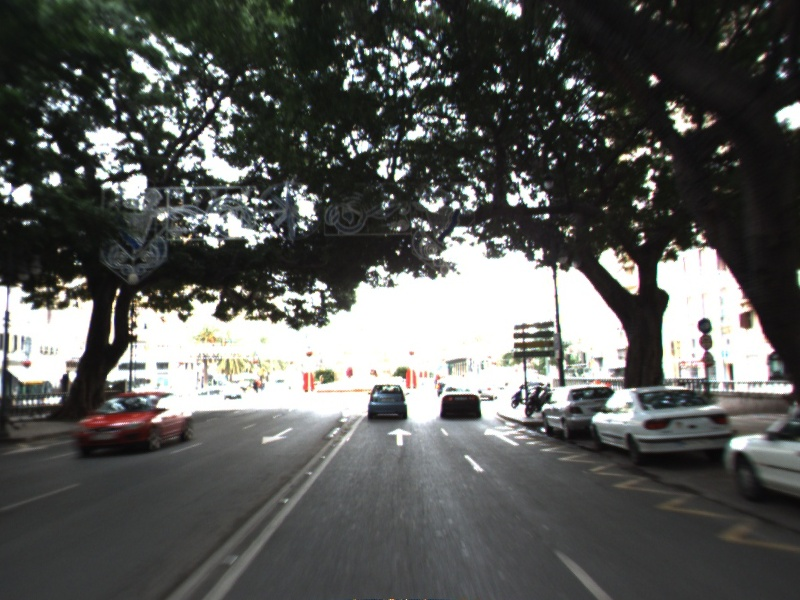STRAIGHT: (482, 426, 522, 447), (385, 426, 414, 448)
